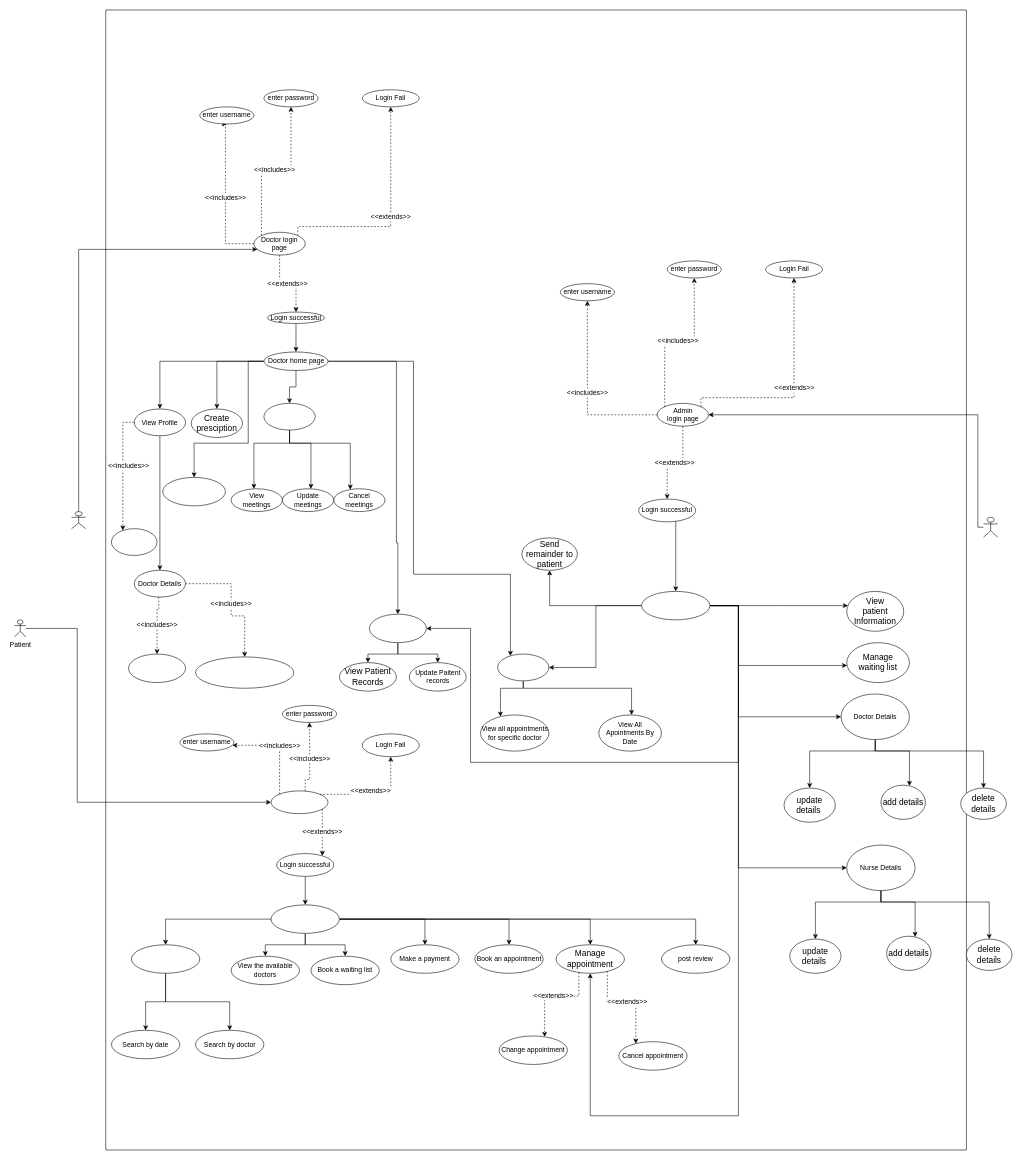
Image size: 1022x1160. Some labels were removed from this diagram. Here are the shapes that lost their labels. From the top down, the centre of each, then its label:
At (289,416): "Manage meetings".
At (193,491): "Gives consulation".
At (78,520): "Doctor".
At (990,527): "Admin".
At (134,541): "Edit Profile".
At (675,605): "Admin Home page".
At (397,628): "Patient Records".
At (157,668): "Availability".
At (244,672): "Areas of expertise/Board certified fields".
At (523,667): "View All Apointments".
At (299,802): "Patient Login Page".
At (304,918): "Patient Home page".
At (165,958): "Search for available appointment".
